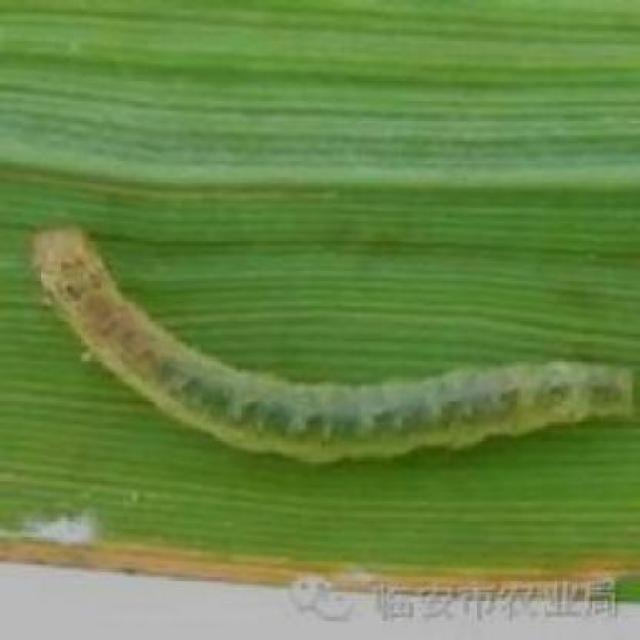leaf-folder: (17, 203, 640, 523)
